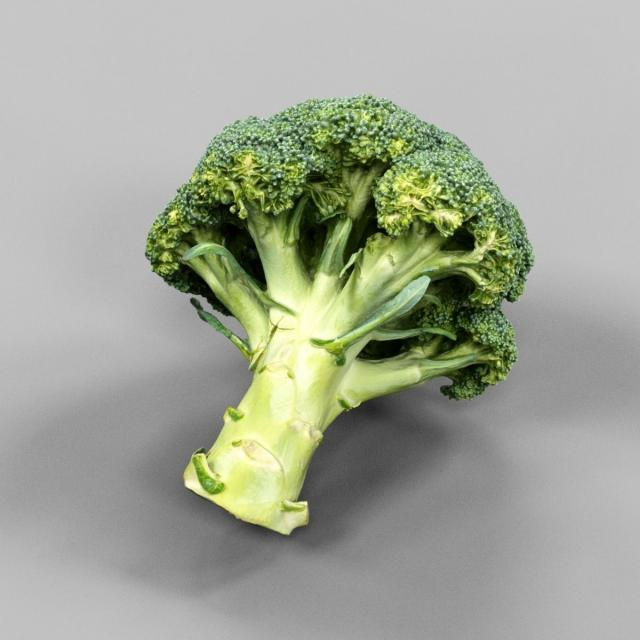broccoli: (145, 95, 537, 541)
